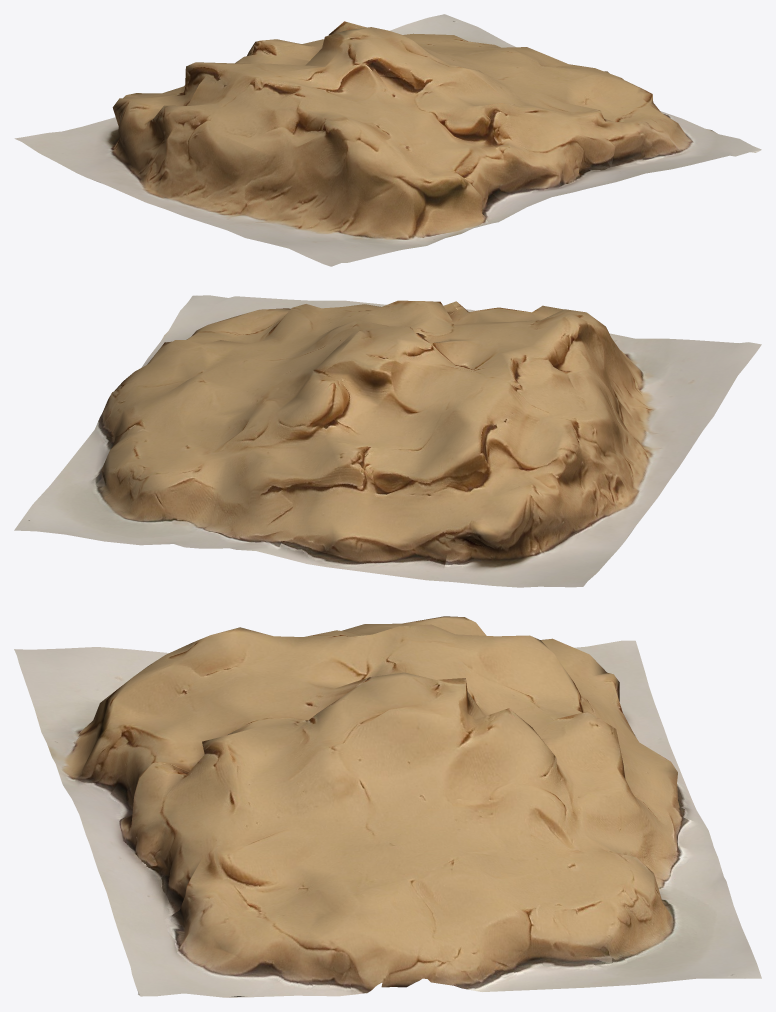
File: GPGre_MamanLOD113.fbx
3 renders of one model, top to bottom at view 1: azimuth 30°, elevation 25°; view 2: azimuth 150°, elevation 25°; view 3: azimuth 270°, elevation 25°, orthographic. The views are drawn at different scales.
Parts seen in each view (by area): view 1: Model; view 2: Model; view 3: Model.
Boxes of the visible parts, bbox=[...] form: Model: bbox=[14, 14, 761, 266]; Model: bbox=[14, 295, 761, 587]; Model: bbox=[14, 616, 761, 997].
Size of the model in its own units: 2.36 by 0.5258 by 2.14.
